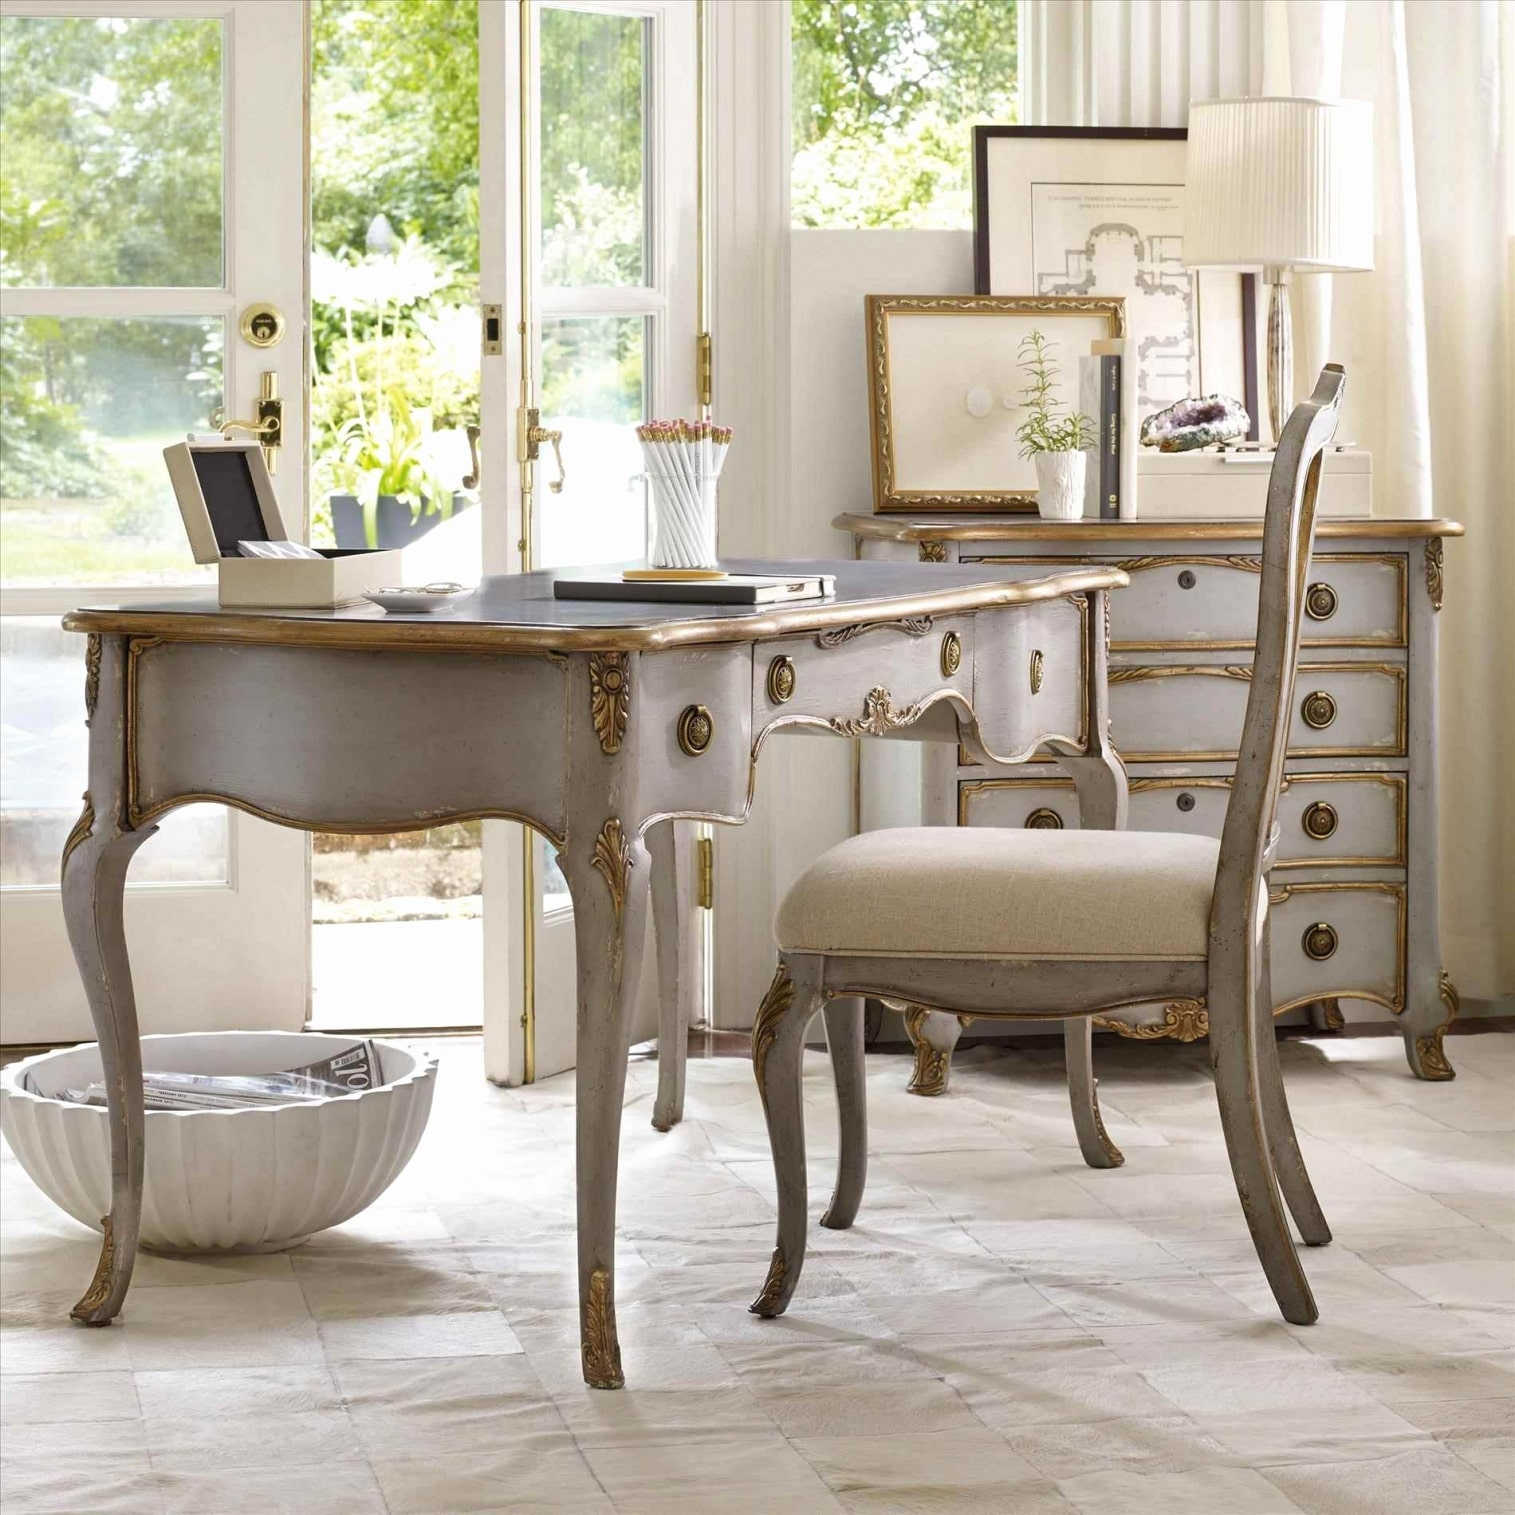chairs: (733, 340, 1378, 1342)
